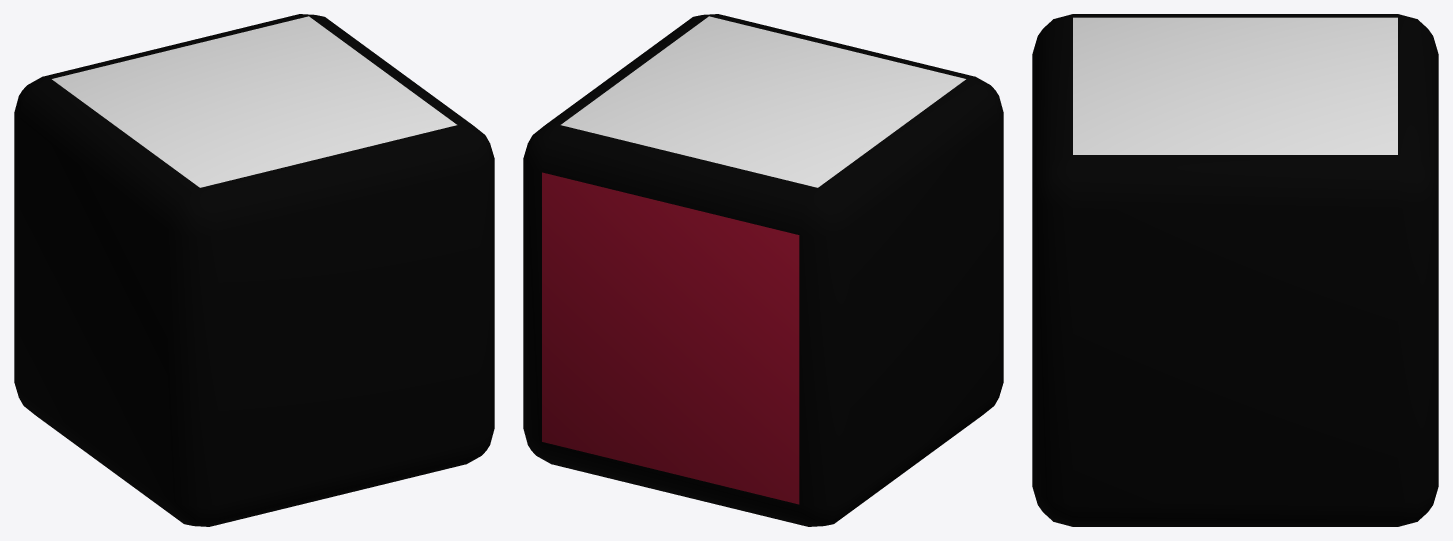
File: cube_front_down_edge.gltf
3 renders of one model, left to right at view 1: azimuth 30°, elevation 25°; view 2: azimuth 150°, elevation 25°; view 3: azimuth 270°, elevation 25°, orthographic. The views are drawn at different scales.
Visible parts, largest first — view 1: Cube.025; view 2: Cube.025; view 3: Cube.025.
Boxes of the visible parts, bbox=[...] form: Cube.025: bbox=[14, 14, 494, 526]; Cube.025: bbox=[523, 14, 1003, 526]; Cube.025: bbox=[1032, 14, 1438, 526].
Bounding box in the file's own units: 2 × 2 × 2.
